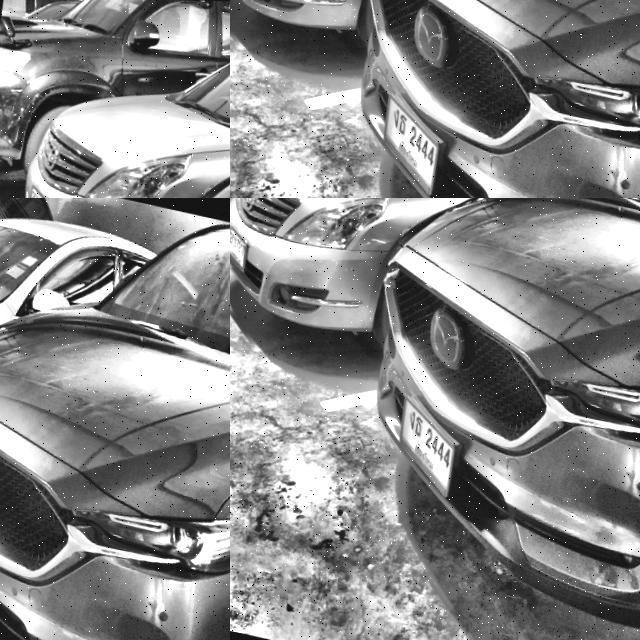license-plate: (381, 389, 463, 496), (230, 222, 253, 276)
